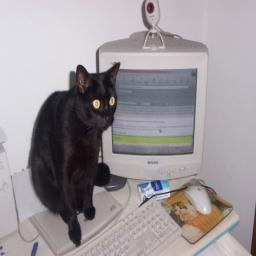catnose: (105, 116, 115, 126)
